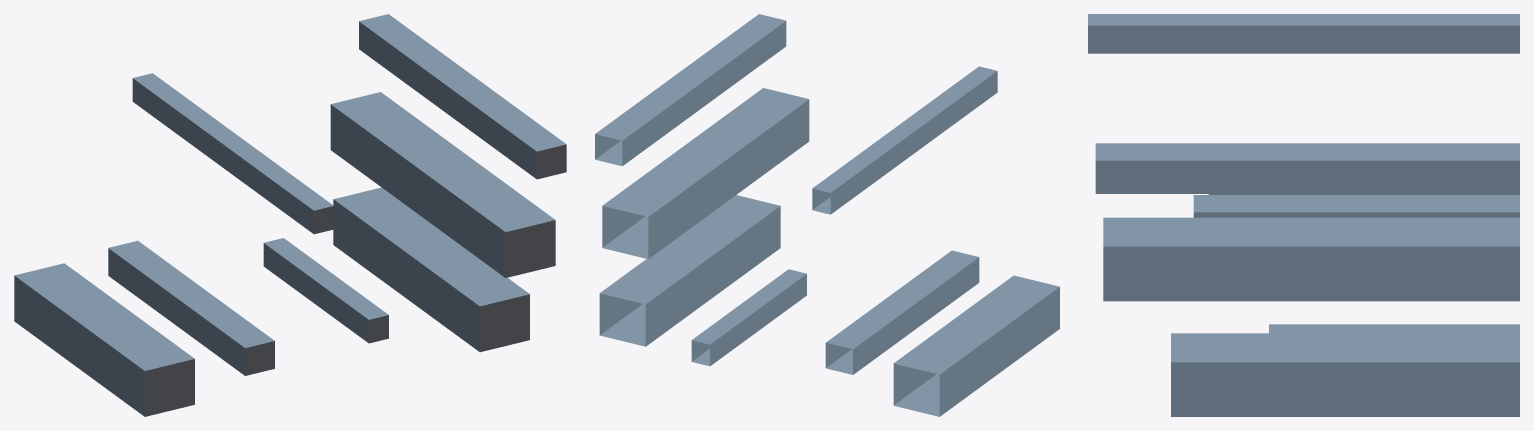
File: island_bldg_11_09.obj
3 renders of one model, left to right at view 1: azimuth 30°, elevation 25°; view 2: azimuth 150°, elevation 25°; view 3: azimuth 270°, elevation 25°, orthographic. The views are drawn at different scales.
Parts seen in each view (by area): view 1: island_bldg_11_09; view 2: island_bldg_11_09; view 3: island_bldg_11_09.
Boxes of the visible parts, x1=… form: island_bldg_11_09: x1=14, y1=14, x2=566, y2=416; island_bldg_11_09: x1=595, y1=14, x2=1059, y2=416; island_bldg_11_09: x1=1088, y1=14, x2=1519, y2=416.
Size of the model in its own units: 239 by 135 by 200.
